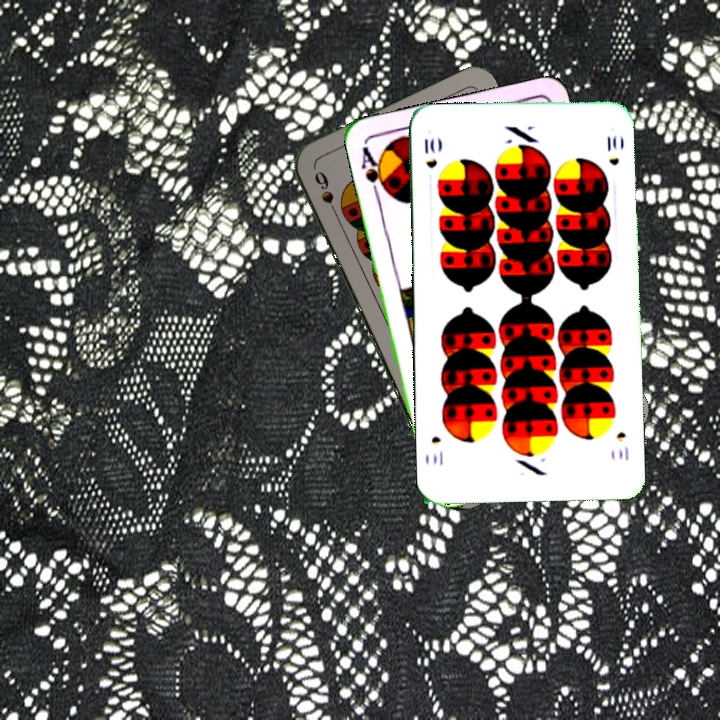S10: (421, 134, 439, 171), (612, 428, 631, 463)
S9: (310, 166, 342, 222)
SA: (357, 142, 391, 201)
